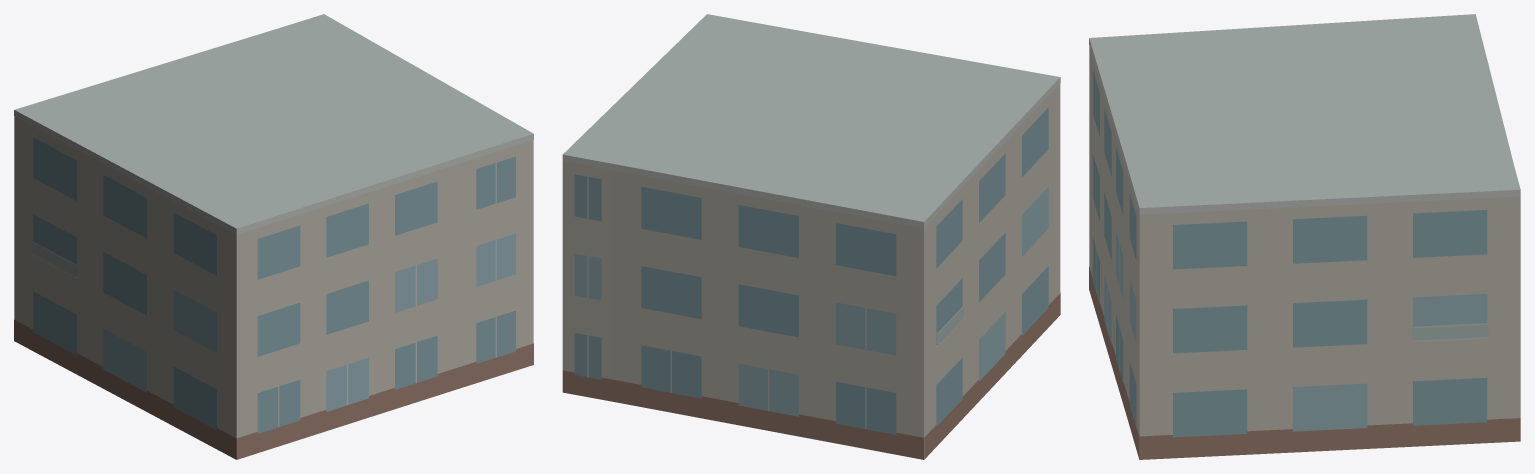
The model's file is survey-upis-32586968.glb.
The picture shows the model from 3 angles, left to right: view 1: azimuth 30°, elevation 25°; view 2: azimuth 150°, elevation 25°; view 3: azimuth 270°, elevation 25°; orthographic projection. The views are drawn at different scales.
Parts seen in each view (by area): view 1: survey-upis-32586968.tmp; view 2: survey-upis-32586968.tmp; view 3: survey-upis-32586968.tmp.
Boxes of the visible parts, box(x1,y1,x2,y2) form: survey-upis-32586968.tmp: box(14, 14, 533, 459); survey-upis-32586968.tmp: box(562, 14, 1060, 459); survey-upis-32586968.tmp: box(1089, 14, 1520, 459).
Size of the model in its own units: 15.14 by 9.15 by 14.22.
